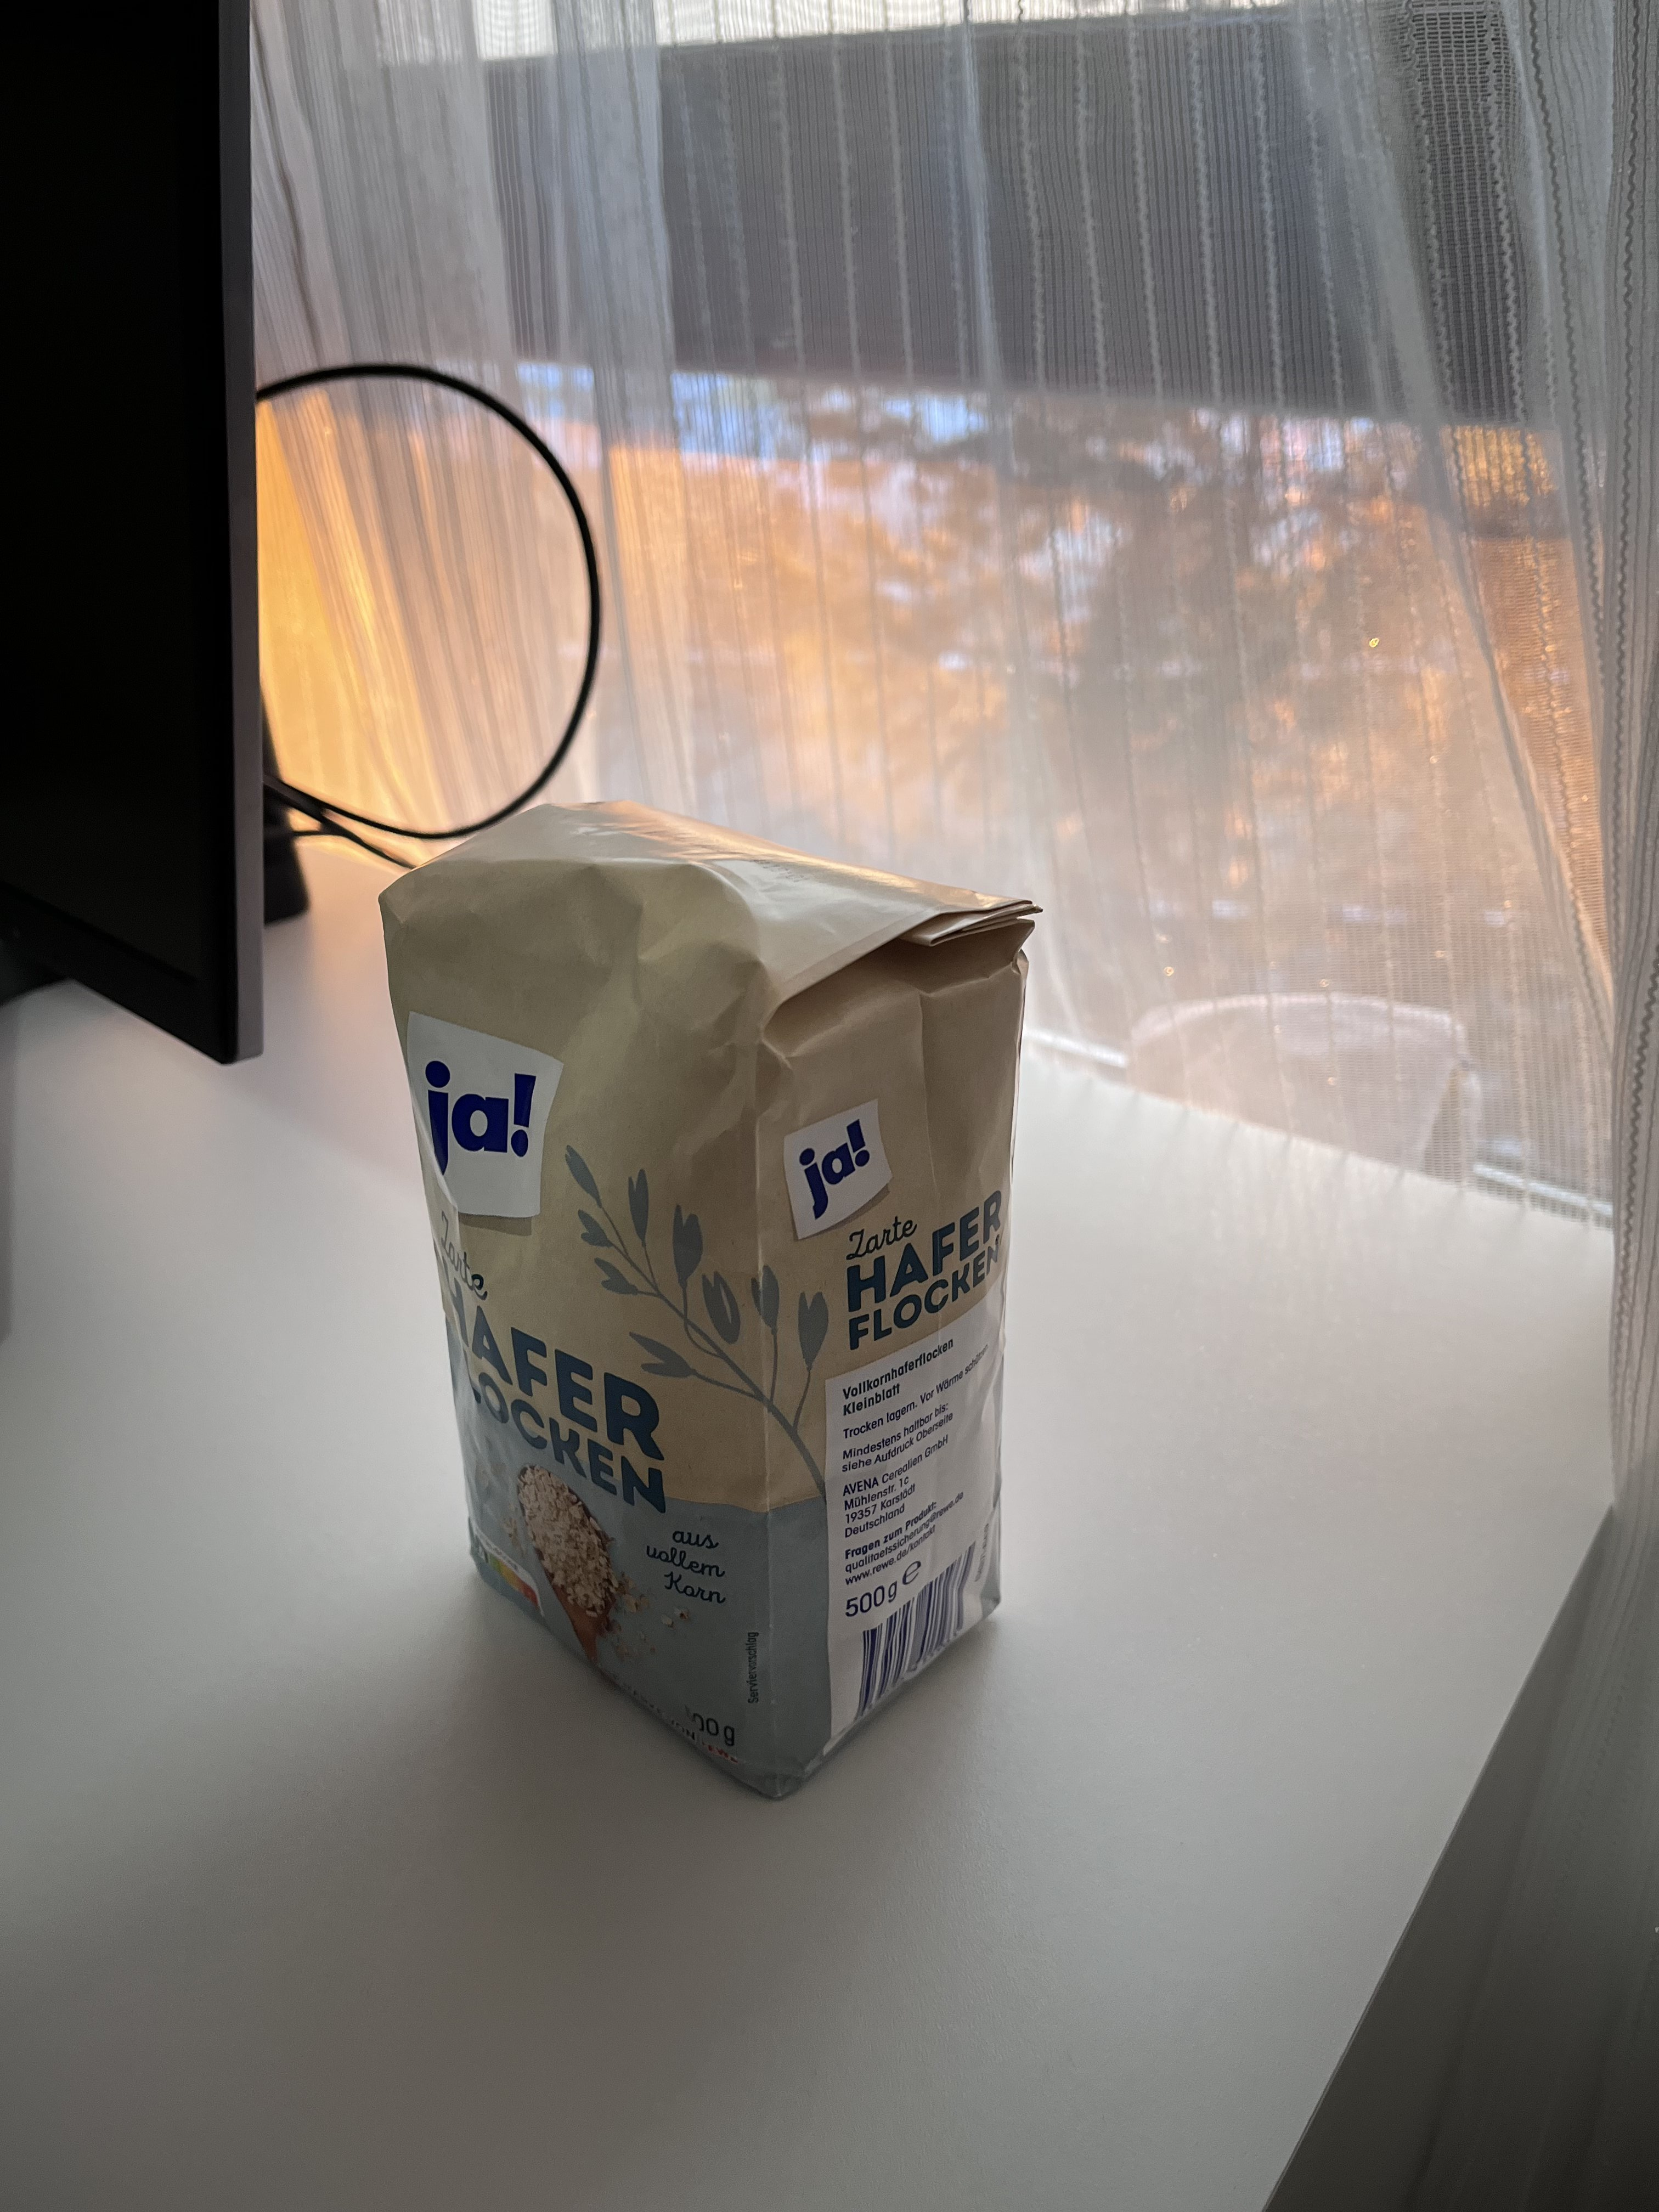haferflocken_ja: (378, 798, 1044, 1799)
